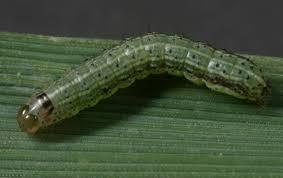fallarmy_worm: (14, 30, 276, 138)
